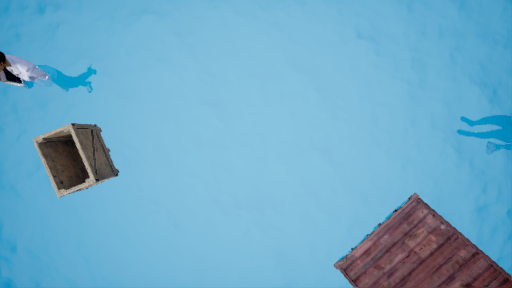person: (2, 50, 107, 105)
